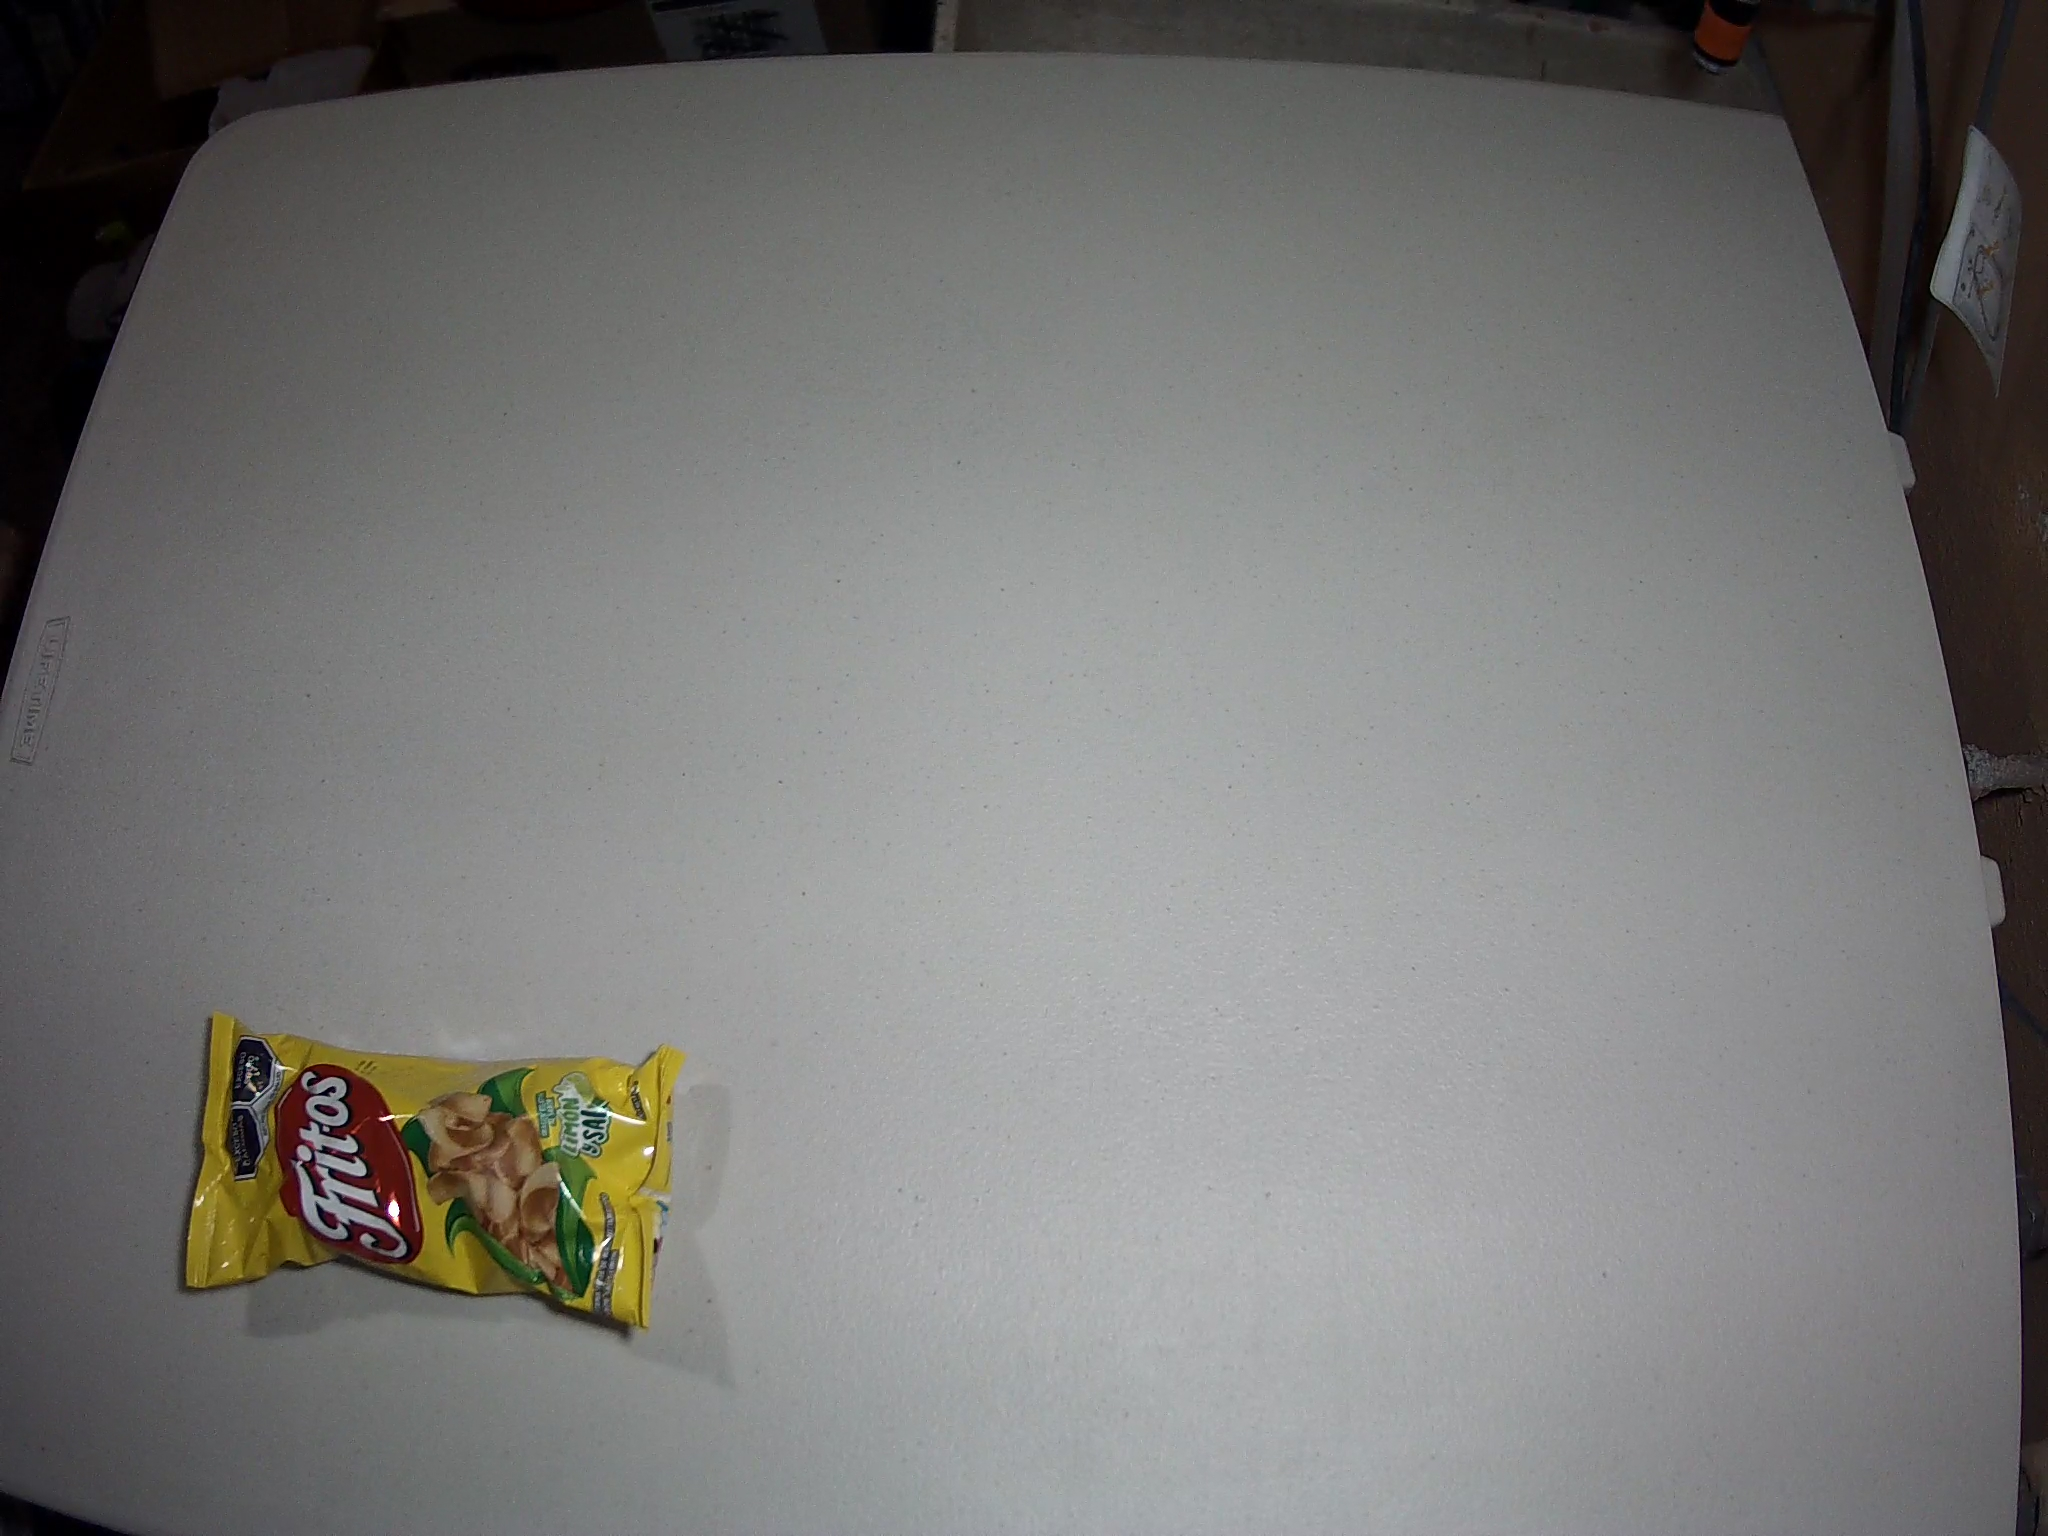FritosSalLimon_65_F: (184, 1012, 682, 1334)
